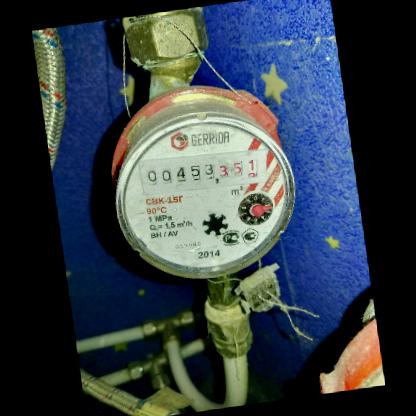digital_screen: (137, 152, 219, 196)
